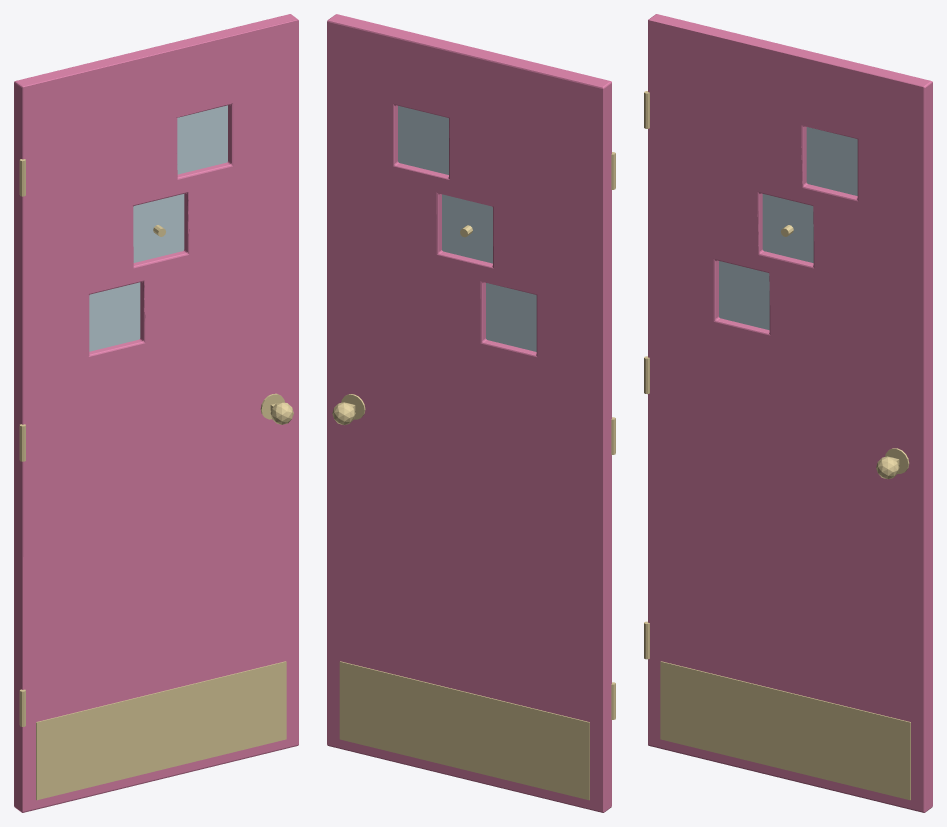
The model's file is door_unit.glb.
The picture shows the model from 3 angles, left to right: view 1: azimuth 30°, elevation 25°; view 2: azimuth 150°, elevation 25°; view 3: azimuth 330°, elevation 25°; orthographic projection.
Visible parts, largest first — view 1: door_unit_door, door_unit_brass, door_unit_glass; view 2: door_unit_door, door_unit_brass, door_unit_glass; view 3: door_unit_door, door_unit_brass, door_unit_glass.
Part boxes in pixels (<box>): door_unit_door: <box>14,14,298,812</box>; door_unit_brass: <box>19,159,293,800</box>; door_unit_glass: <box>89,105,227,351</box>; door_unit_door: <box>327,14,611,812</box>; door_unit_brass: <box>332,152,615,800</box>; door_unit_glass: <box>398,105,536,351</box>; door_unit_door: <box>648,14,932,812</box>; door_unit_brass: <box>644,91,910,800</box>; door_unit_glass: <box>719,127,857,330</box>.
Bounding box in the file's own units: 0.828 × 2.06 × 0.205.
